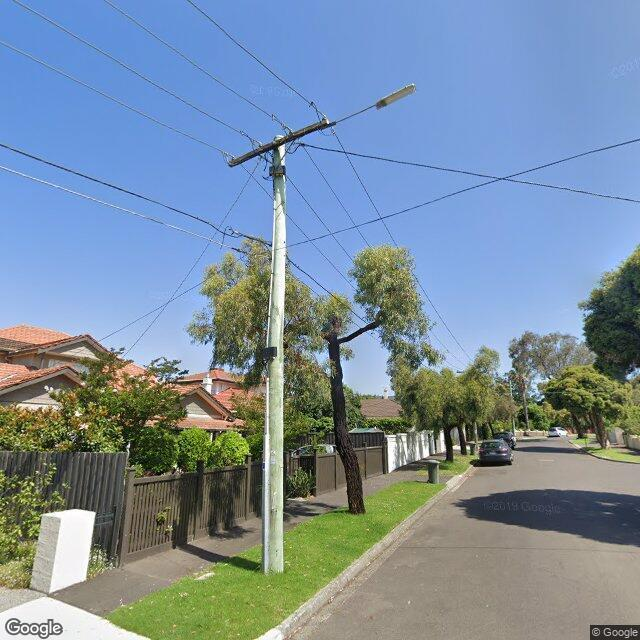crossarm: (225, 100, 335, 168)
streetlight: (329, 84, 418, 124)
timber-pole: (262, 135, 287, 573)
